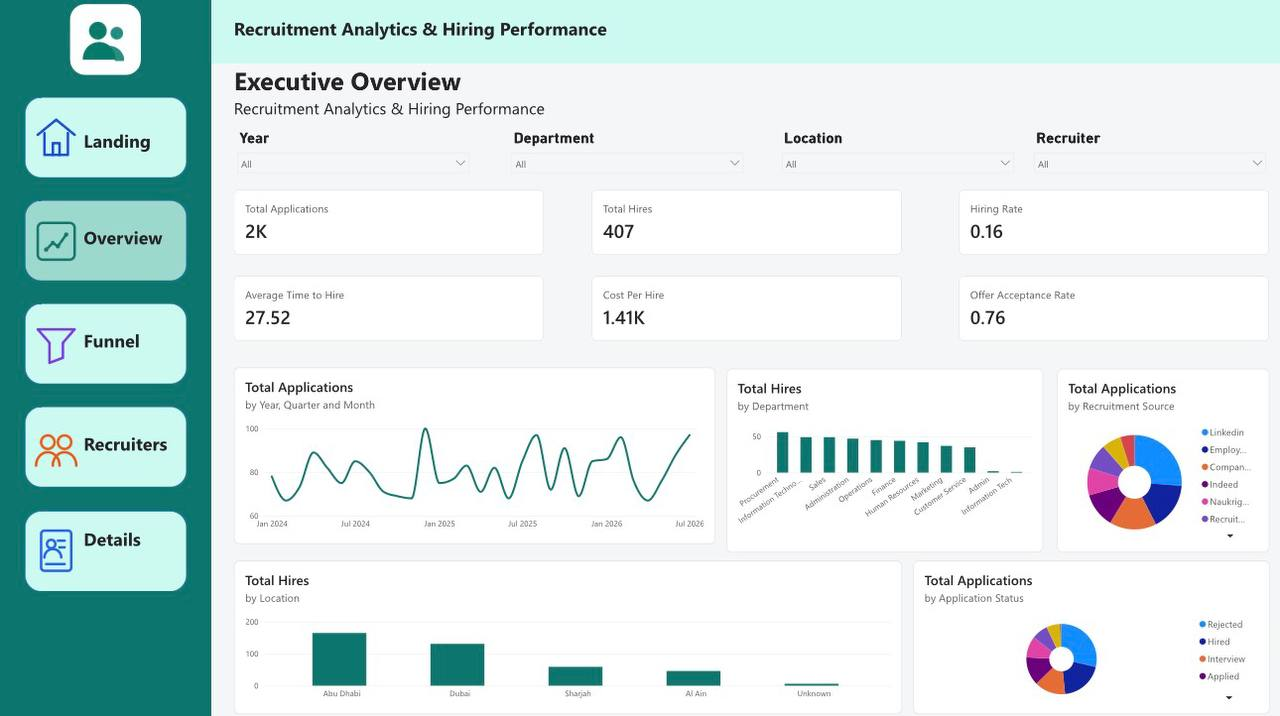

The dashboard page shown, as its layout file describes it:
{"tool":"powerbi","page":{"name":"Executive Overview","canvas":[1920,1080],"ordinal":1},"visuals":[{"type":"shape","box":[0,0,317,1080.6],"z":0},{"type":"shape","box":[37,146.2,242.9,121.4],"z":1000},{"type":"shape","box":[37,302.6,242.9,121.4],"z":2000},{"type":"shape","box":[37,457,242.9,121.4],"z":3000},{"type":"shape","box":[37,611.4,242.9,121.4],"z":4000},{"type":"shape","box":[37,767.8,242.9,121.4],"z":5000},{"type":"image","box":[43.2,168.8,82.3,80.3],"z":6000},{"type":"image","box":[43.2,323.2,82.3,80.3],"z":7000},{"type":"image","box":[43.2,477.6,82.3,80.3],"z":8000},{"type":"image","box":[43.2,634,82.3,80.3],"z":9000},{"type":"image","box":[43.2,788.4,82.3,80.3],"z":10000},{"type":"shape","box":[317,0,1603.4,96.7],"z":11000},{"type":"textbox","box":[349.9,24.7,609.3,49.4],"z":12000},{"type":"textbox","box":[349.9,96.7,358.1,49.4],"z":13000},{"type":"slicer","fields":{"Values":["Date Table.Date.Variation.Date Hierarchy.Year"]},"box":[349.9,197.7,358.1,63.8],"z":14000},{"type":"slicer","fields":{"Values":["Recruitment_Data.Department"]},"box":[761.6,197.7,358.1,63.8],"z":15000},{"type":"slicer","fields":{"Values":["Recruitment_Data.Location"]},"box":[1167.1,197.7,358.1,63.8],"z":16000},{"type":"slicer","fields":{"Values":["Recruitment_Data.Recruiter"]},"box":[1545.8,197.7,358.1,63.8],"z":17000},{"type":"cardVisual","fields":{"Data":["Recruitment_Data.Total Applications"]},"box":[349.9,286.2,465.2,98.8],"z":17001},{"type":"cardVisual","fields":{"Data":["Recruitment_Data.Total Hires"]},"box":[887.1,286.2,465.2,98.8],"z":17010},{"type":"cardVisual","fields":{"Data":["Recruitment_Data.Hiring Rate"]},"box":[1438.8,286.2,465.2,98.8],"z":17011},{"type":"cardVisual","fields":{"Data":["Recruitment_Data.Average Time to Hire"]},"box":[349.9,415.9,465.2,98.8],"z":17012},{"type":"cardVisual","fields":{"Data":["Recruitment_Data.Cost Per Hire"]},"box":[887.1,415.9,465.2,98.8],"z":17013},{"type":"cardVisual","fields":{"Data":["Recruitment_Data.Offer Acceptance Rate"]},"box":[1438.8,415.9,465.2,98.8],"z":17014},{"type":"lineChart","fields":{"Category":["Date Table.Date.Variation.Date Hierarchy.Year","Date Table.Date.Variation.Date Hierarchy.Quarter","Date Table.Date.Variation.Date Hierarchy.Month"],"Y":["Recruitment_Data.Total Applications"]},"box":[349.9,551.8,722.5,265.5],"z":17015},{"type":"clusteredColumnChart","fields":{"Category":["Recruitment_Data.Department"],"Y":["Recruitment_Data.Total Hires"]},"box":[1088.9,553.8,475.5,275.8],"z":17016},{"type":"donutChart","fields":{"Category":["Recruitment_Data.Recruitment Source"],"Y":["Recruitment_Data.Total Applications"]},"box":[1584.9,553.8,319,275.8],"z":17017},{"type":"clusteredColumnChart","fields":{"Category":["Recruitment_Data.Location"],"Y":["Recruitment_Data.Total Hires"]},"box":[349.9,842,1002.4,230.5],"z":17018},{"type":"donutChart","fields":{"Category":["Recruitment_Data.Application Status"],"Y":["Recruitment_Data.Total Applications"]},"box":[1368.8,842,535.2,230.5],"z":17019},{"type":"textbox","box":[125.6,193.5,107,49.4],"z":17020},{"type":"textbox","box":[125.6,339.6,127.6,49.4],"z":17021},{"type":"textbox","box":[125.6,494,107,49.4],"z":17022},{"type":"textbox","box":[125.6,648.4,127.6,49.4],"z":17023},{"type":"textbox","box":[125.6,792.5,107,49.4],"z":17024},{"type":"textbox","box":[349.9,146.1,502.2,32.9],"z":17025},{"type":"image","box":[8.2,0,300.5,121.4],"z":17026}]}

Visuals, with their boxes on the page's 1920x1080 design canvas (x1, y1, x2, y2). These are canvas units, not pixel positions in the 1280x716 screenshot, which may show the page scaled, cropped or inside an application window:
shape: 0/0/317/1081
shape: 37/146/280/268
shape: 37/303/280/424
shape: 37/457/280/578
shape: 37/611/280/733
shape: 37/768/280/889
image: 43/169/126/249
image: 43/323/126/404
image: 43/478/126/558
image: 43/634/126/714
image: 43/788/126/869
shape: 317/0/1920/97
textbox: 350/25/959/74
textbox: 350/97/708/146
slicer - Date Table.Date.Variation.Date Hierarchy.Year: 350/198/708/262
slicer - Recruitment_Data.Department: 762/198/1120/262
slicer - Recruitment_Data.Location: 1167/198/1525/262
slicer - Recruitment_Data.Recruiter: 1546/198/1904/262
cardVisual - Recruitment_Data.Total Applications: 350/286/815/385
cardVisual - Recruitment_Data.Total Hires: 887/286/1352/385
cardVisual - Recruitment_Data.Hiring Rate: 1439/286/1904/385
cardVisual - Recruitment_Data.Average Time to Hire: 350/416/815/515
cardVisual - Recruitment_Data.Cost Per Hire: 887/416/1352/515
cardVisual - Recruitment_Data.Offer Acceptance Rate: 1439/416/1904/515
lineChart - Date Table.Date.Variation.Date Hierarchy.Year x Date Table.Date.Variation.Date Hierarchy.Quarter: 350/552/1072/817
clusteredColumnChart - Recruitment_Data.Department x Recruitment_Data.Total Hires: 1089/554/1564/830
donutChart - Recruitment_Data.Recruitment Source x Recruitment_Data.Total Applications: 1585/554/1904/830
clusteredColumnChart - Recruitment_Data.Location x Recruitment_Data.Total Hires: 350/842/1352/1072
donutChart - Recruitment_Data.Application Status x Recruitment_Data.Total Applications: 1369/842/1904/1072
textbox: 126/194/233/243
textbox: 126/340/253/389
textbox: 126/494/233/543
textbox: 126/648/253/698
textbox: 126/792/233/842
textbox: 350/146/852/179
image: 8/0/309/121
